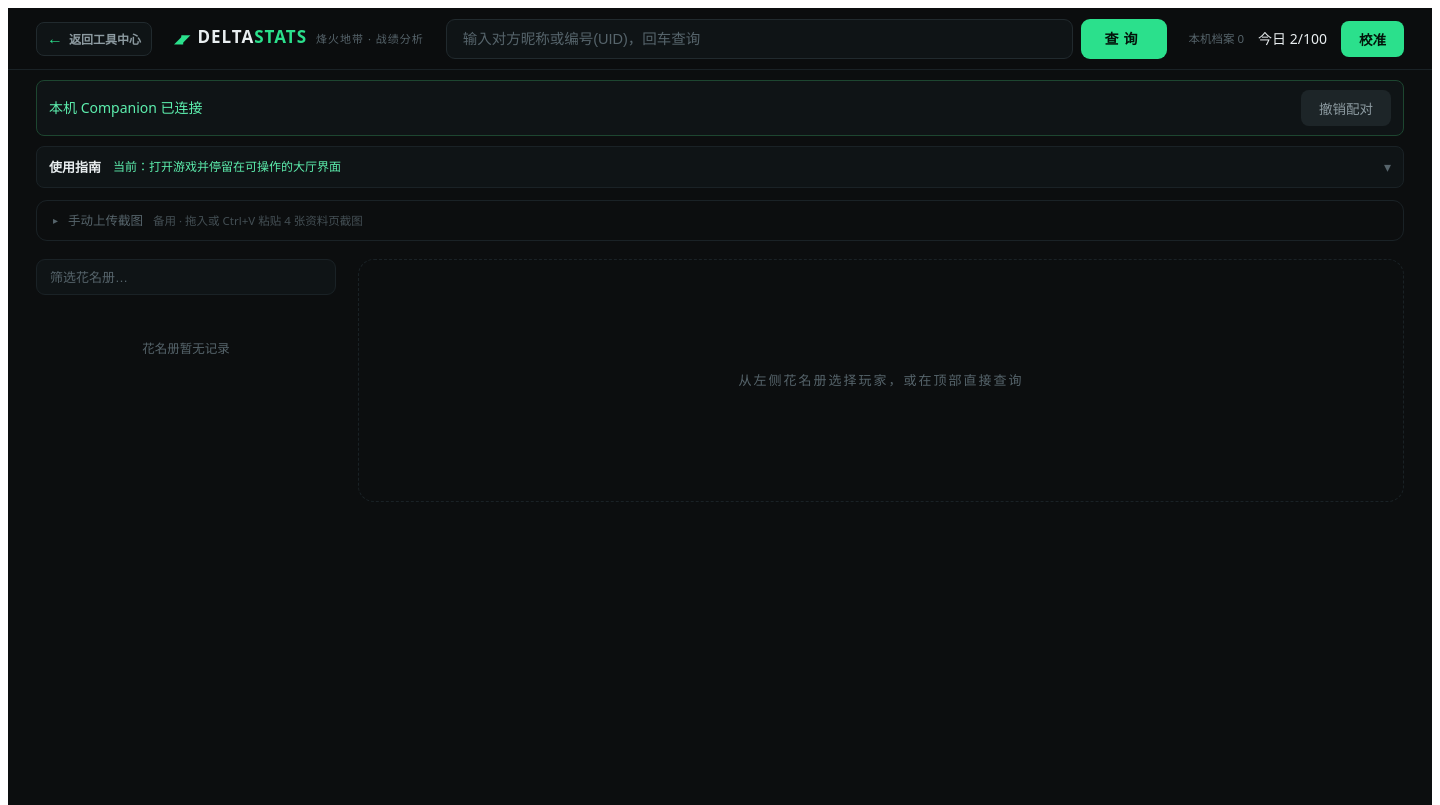
DeltaForcePage Companion workflow › submits an automatic lookup, polls progress, and opens the stored player
This screenshot has width=1440, height=805.
Type "123456" into the field with placeholder "输入对方昵称或编号(UID)，回车查询" at (759, 38), box [446, 18, 1072, 58]
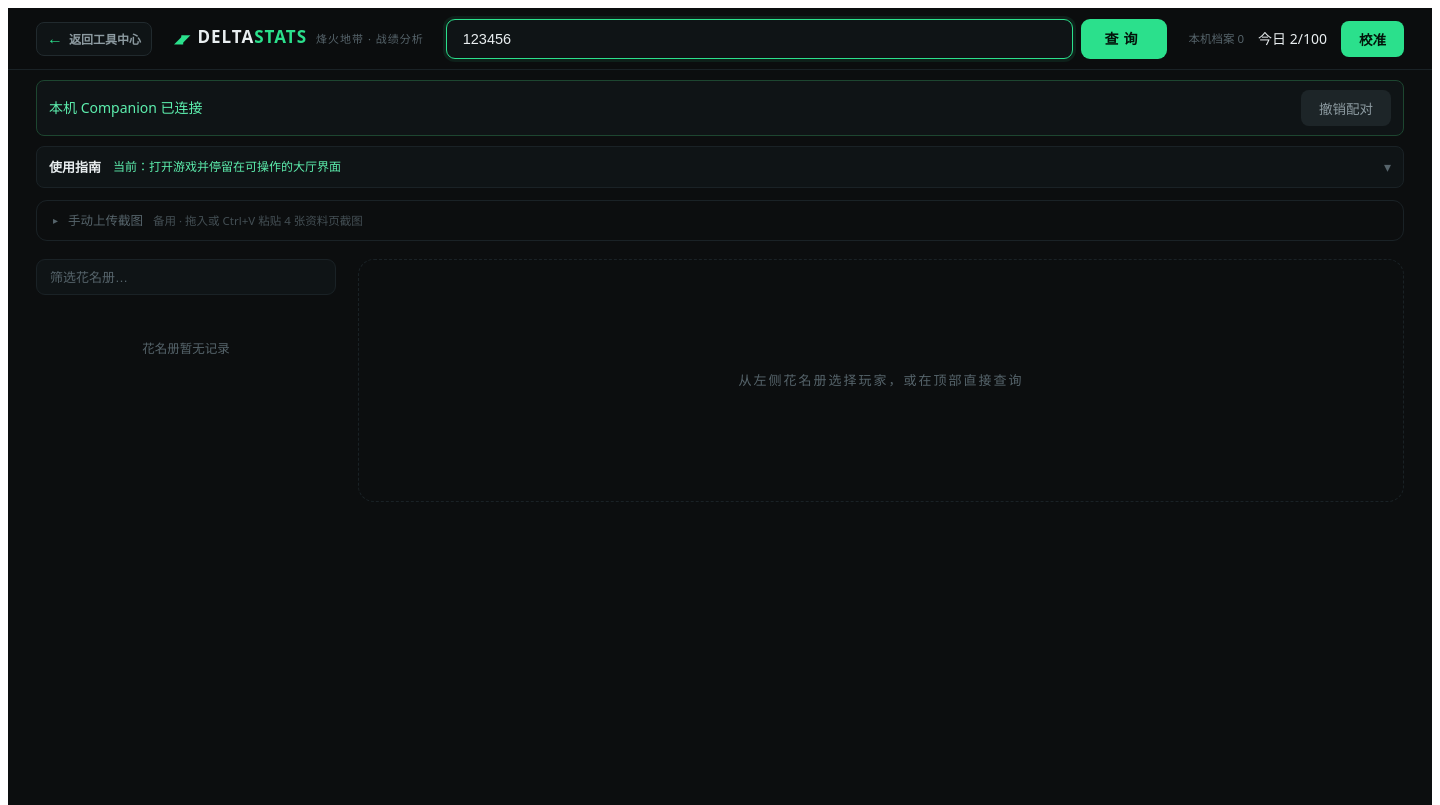
Click the button "查询" at (1124, 38), box [1080, 18, 1166, 58]
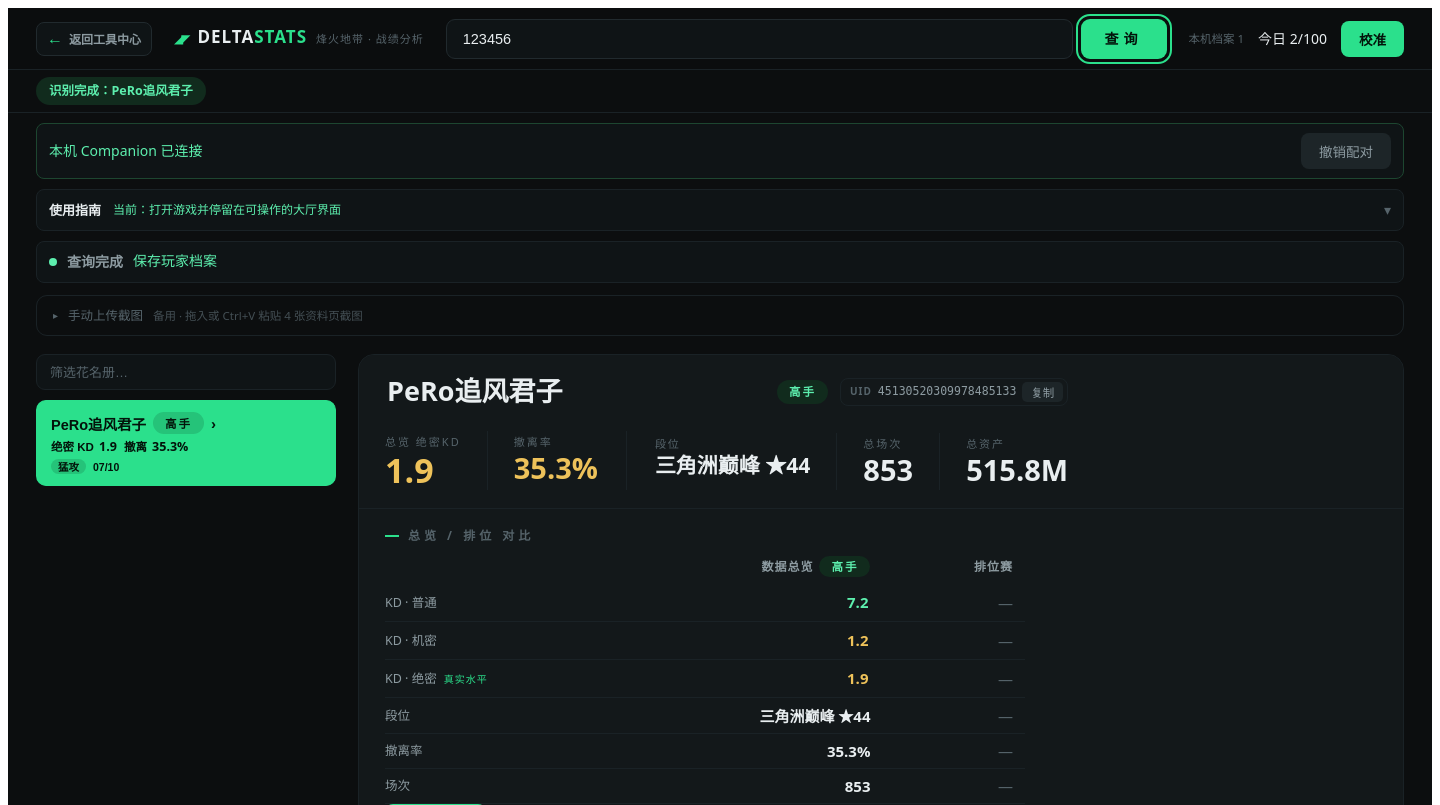
Result: the field showing "PeRo追风君子" is shown at [385, 375, 765, 409]
